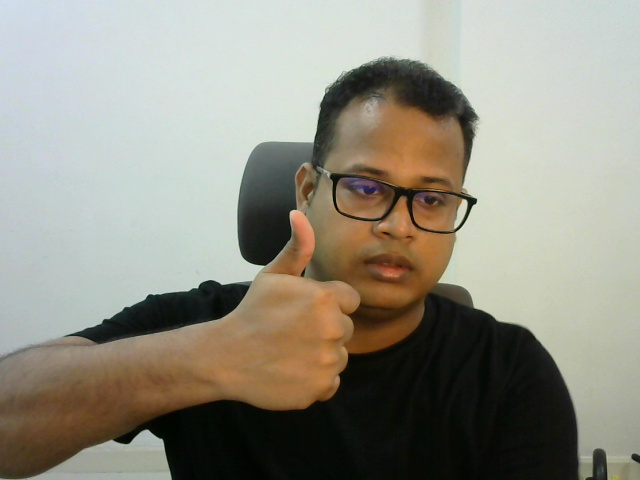ThumbsUp: (241, 209, 361, 411)
